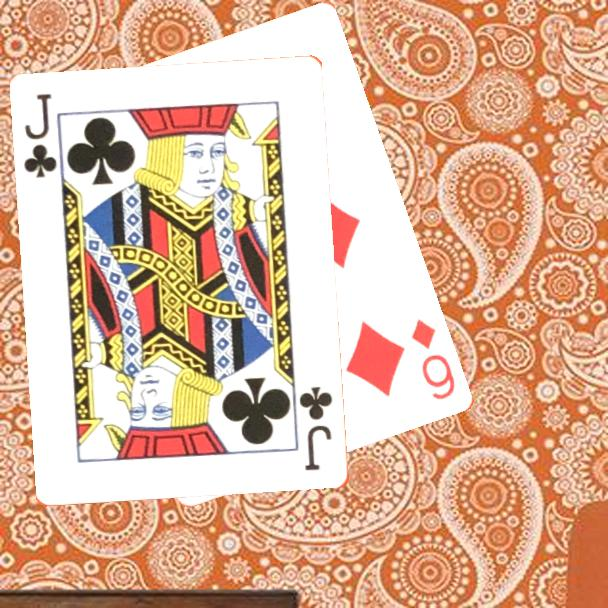c11: (296, 383, 336, 474), (21, 90, 60, 181)
d06: (408, 315, 459, 403)
